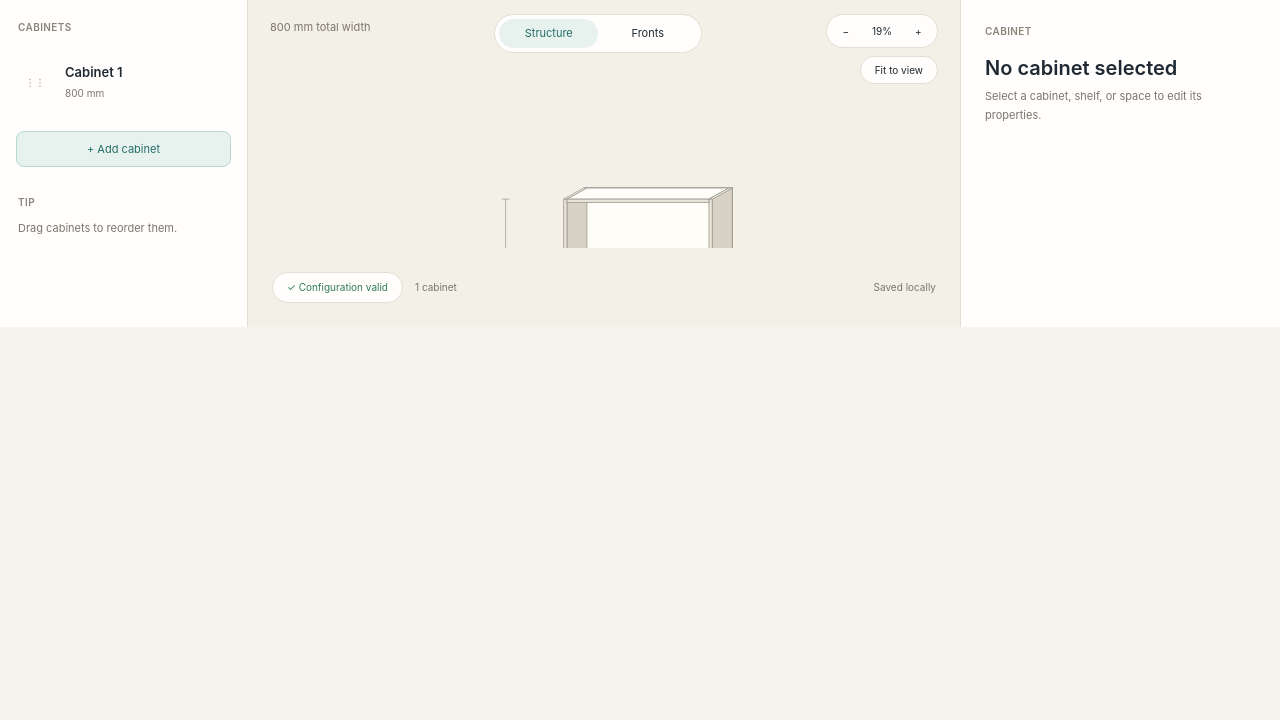
Test: Structure editing › rejects fractional input without a history entry
Click the button with aria-label "Cabinet 1, 800 mm" at (124, 82), box x1=12 y1=53 x2=235 y2=111
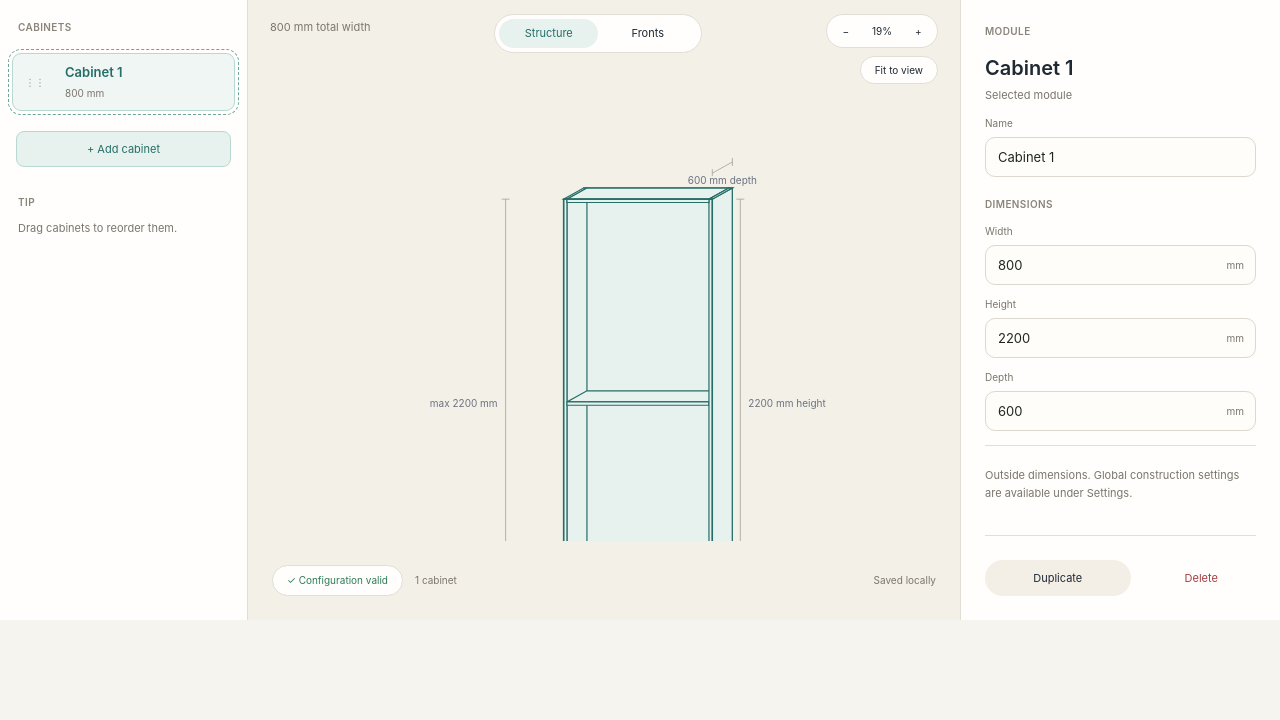
Replace the text in the field named "height (mm)" with "2000.5" at (1120, 338), box x1=985 y1=318 x2=1256 y2=358
Then press Enter
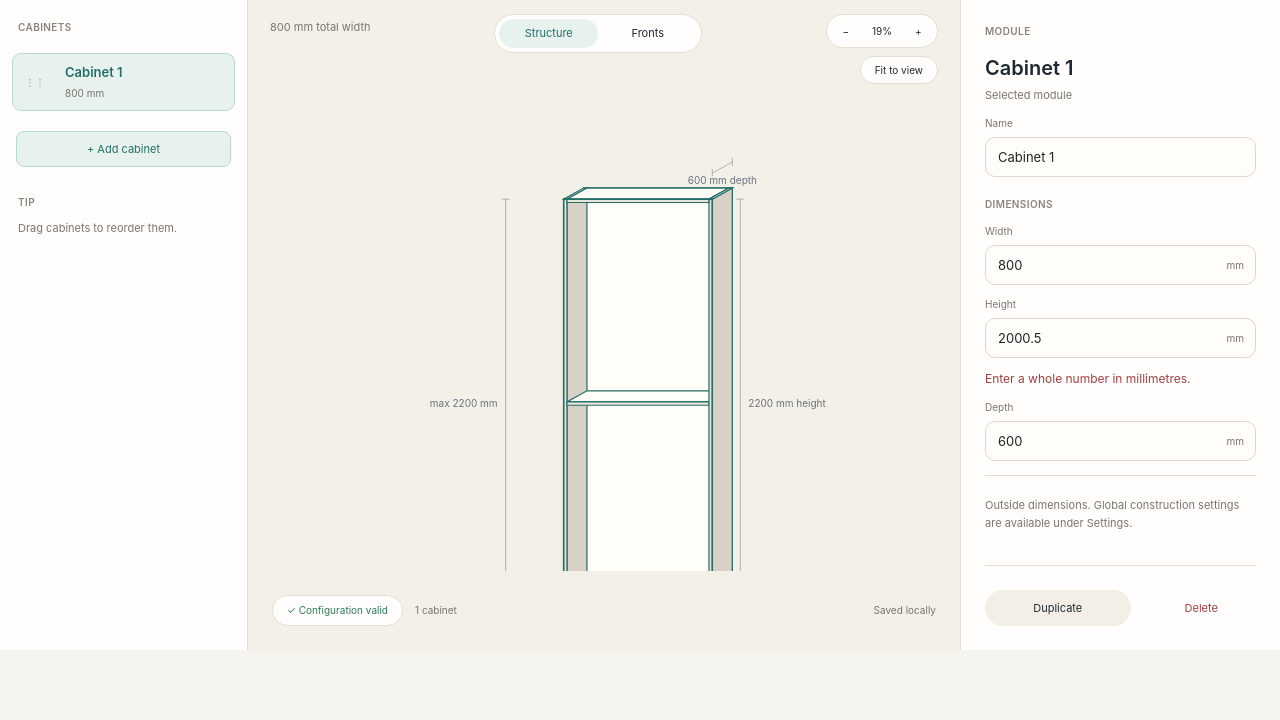
Expected: the message "Enter a whole number in millimetres." is shown, x1=985 y1=370 x2=1190 y2=386
